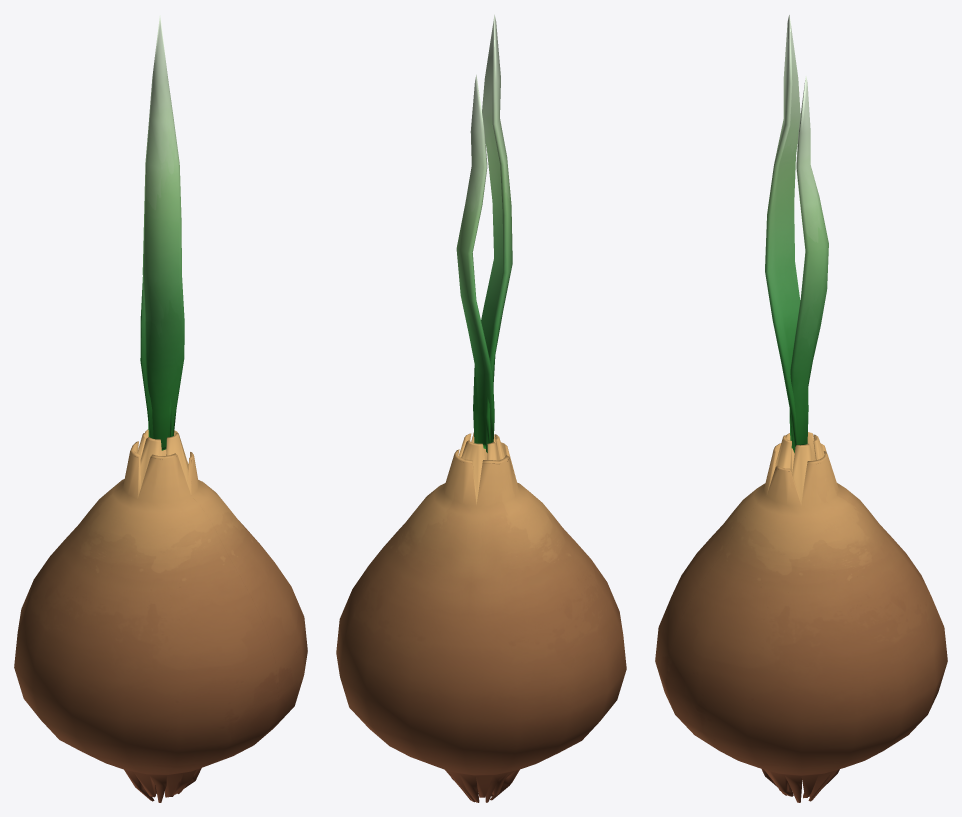
Rendered from Veg_onion_M.fbx.
3 renders of one model, left to right at view 1: azimuth 30°, elevation 25°; view 2: azimuth 150°, elevation 25°; view 3: azimuth 270°, elevation 25°, orthographic.
Parts seen in each view (by area): view 1: cebolla M.001; view 2: cebolla M.001; view 3: cebolla M.001.
Boxes of the visible parts, x1,y1,x2,y2 form: cebolla M.001: (14,15,307,802); cebolla M.001: (336,14,626,802); cebolla M.001: (655,15,947,802).
Size of the model in its own units: 7.6 by 7.6 by 22.35.
